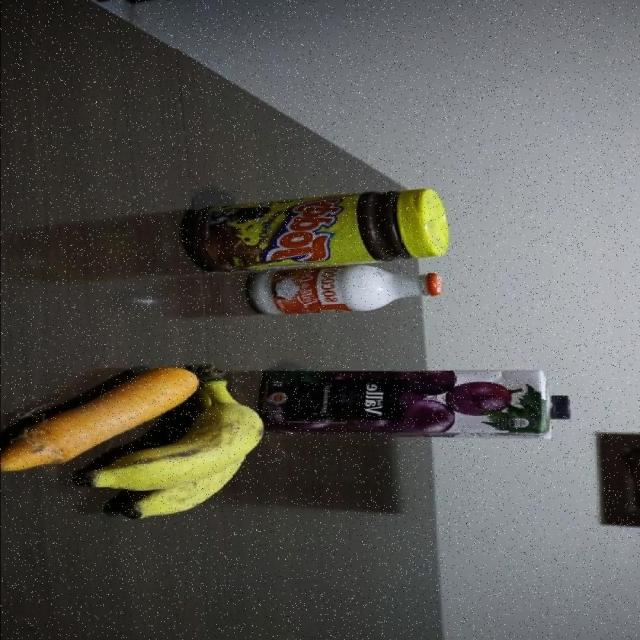Banana: (194, 370, 272, 522)
Carrot: (0, 368, 183, 466)
ChocolatePowder: (189, 184, 455, 268)
CoconutMilk: (248, 268, 452, 318)
